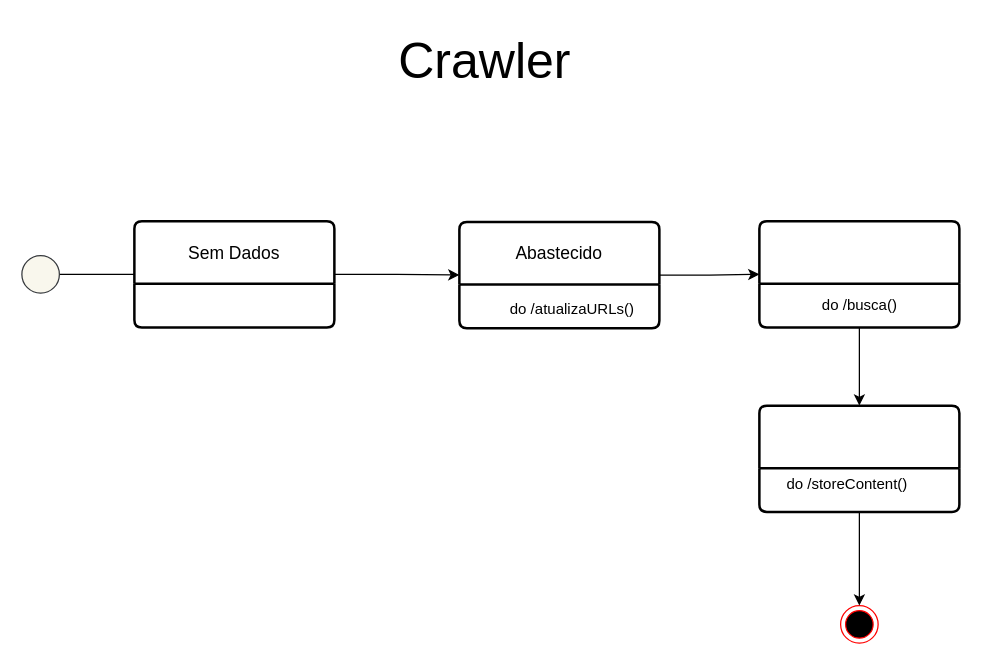
Some shapes in this 983 by 665 pixel diagram are drawn without their labels. Here are the shapes that lost their labels. From the top down, the box of each, then its label:
(758, 219, 960, 328): Pesquisa de Dados
(758, 404, 960, 512): Armazenando Conteúdo
